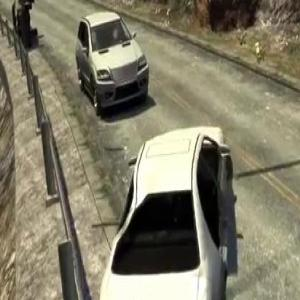fatal: (10, 0, 38, 50)
